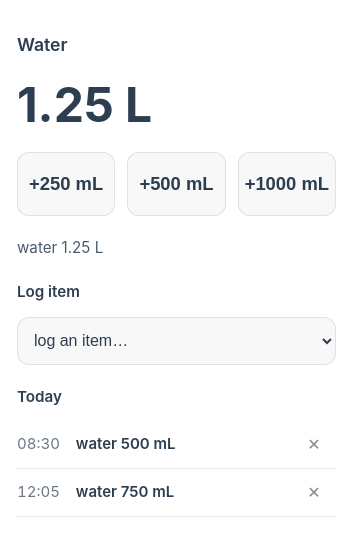
Test: HomeView › surfaces a failed log instead of silently doing nothing
Click the button "+250 mL".
click(66, 184)  # box [17,152,115,216]
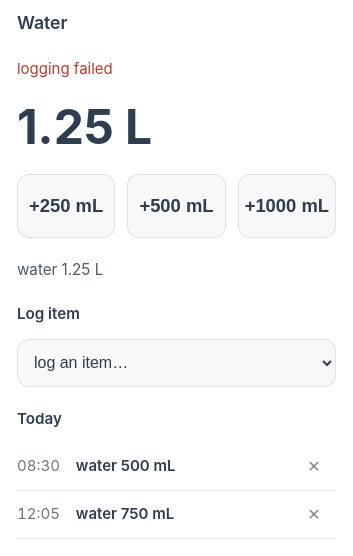
Expected: the text with test id "water-total" reads "1.25 L", [17,97,152,156]
Expected: the message with class "error" reads "logging failed", [17,59,113,78]
